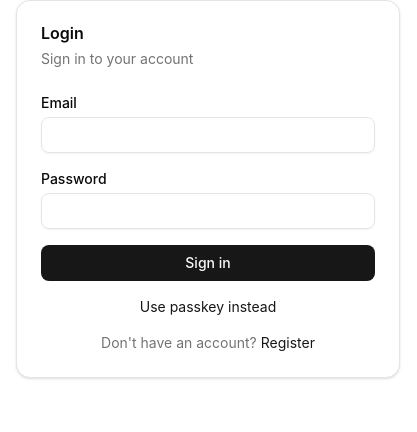
Test: LoginForm › shows error on failed login
Type "test@example.com" into the field labelled "Email" at (208,135), box [41, 117, 375, 153]
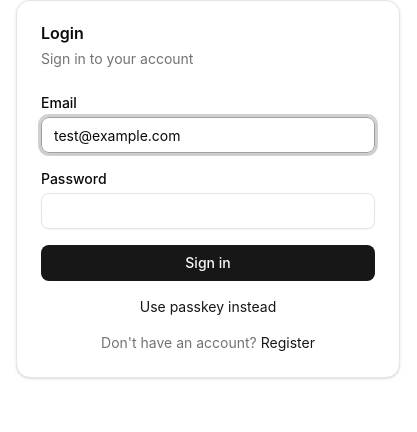
Type "wrong" into the password field labelled "Password" at (208,211), box [41, 193, 375, 229]
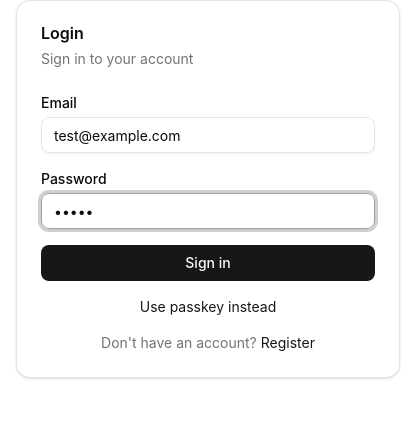
Click the button "Sign in" at (208,263), box [41, 245, 375, 281]
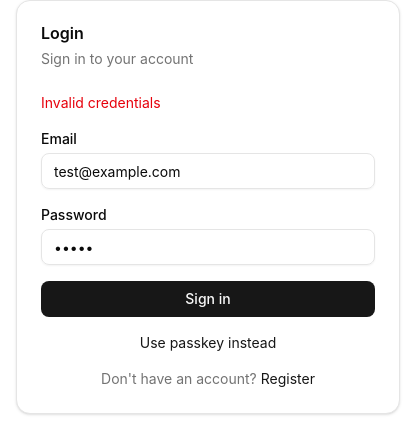
Expected: the message reads "Invalid credentials", [41, 94, 161, 111]
